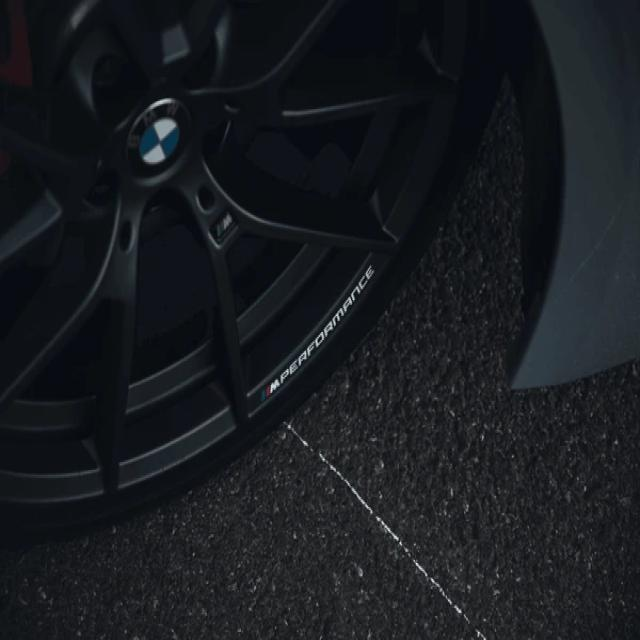bmw: (120, 89, 191, 180)
